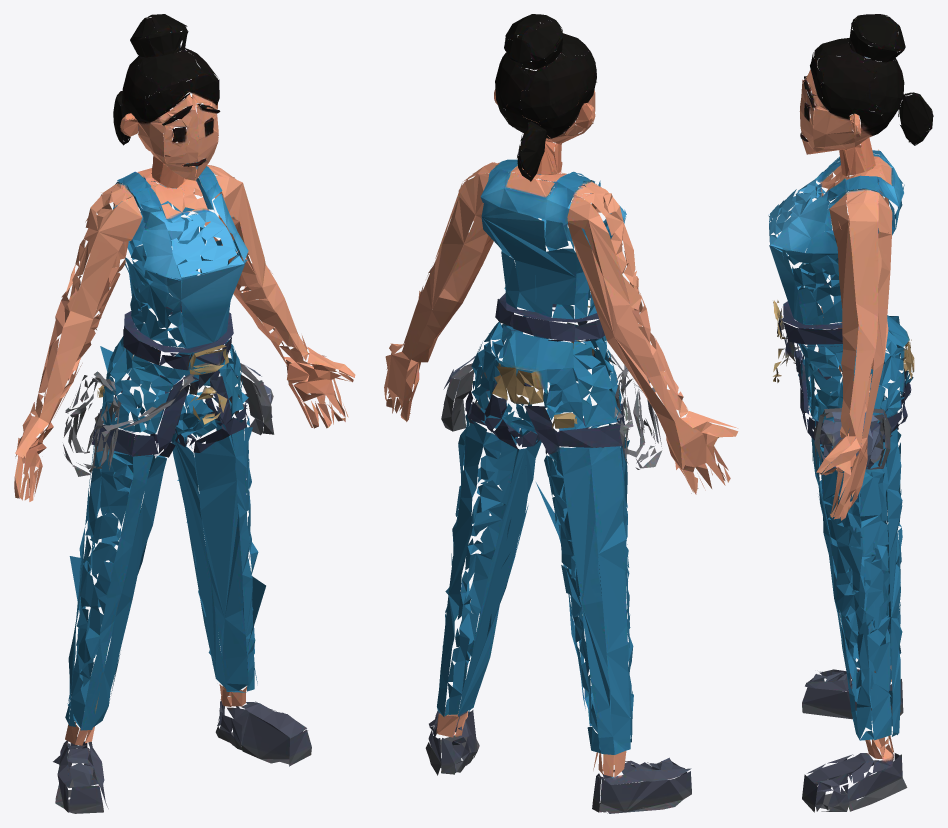
The model's file is habitant.glb.
3 views of the same model, side by side, from view 1: azimuth 30°, elevation 25°; view 2: azimuth 150°, elevation 25°; view 3: azimuth 270°, elevation 25° (orthographic). The views are drawn at different scales.
Parts seen in each view (by area): view 1: world; view 2: world; view 3: world.
Boxes of the visible parts, x1,y1,x2,y2 form: world: (14,14,355,813); world: (384,14,738,813); world: (768,14,933,812).
Size of the model in its own units: 0.4786 by 1 by 0.204.
1 material, 1 textured.
